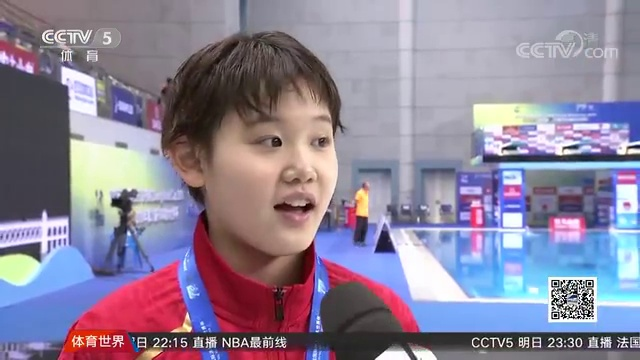face: (209, 91, 336, 250)
